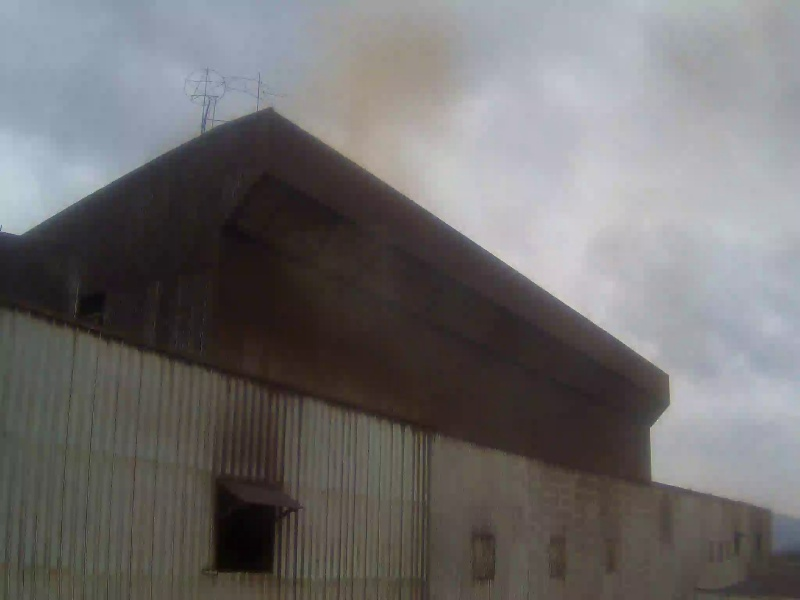Ruim: (286, 5, 617, 233)
